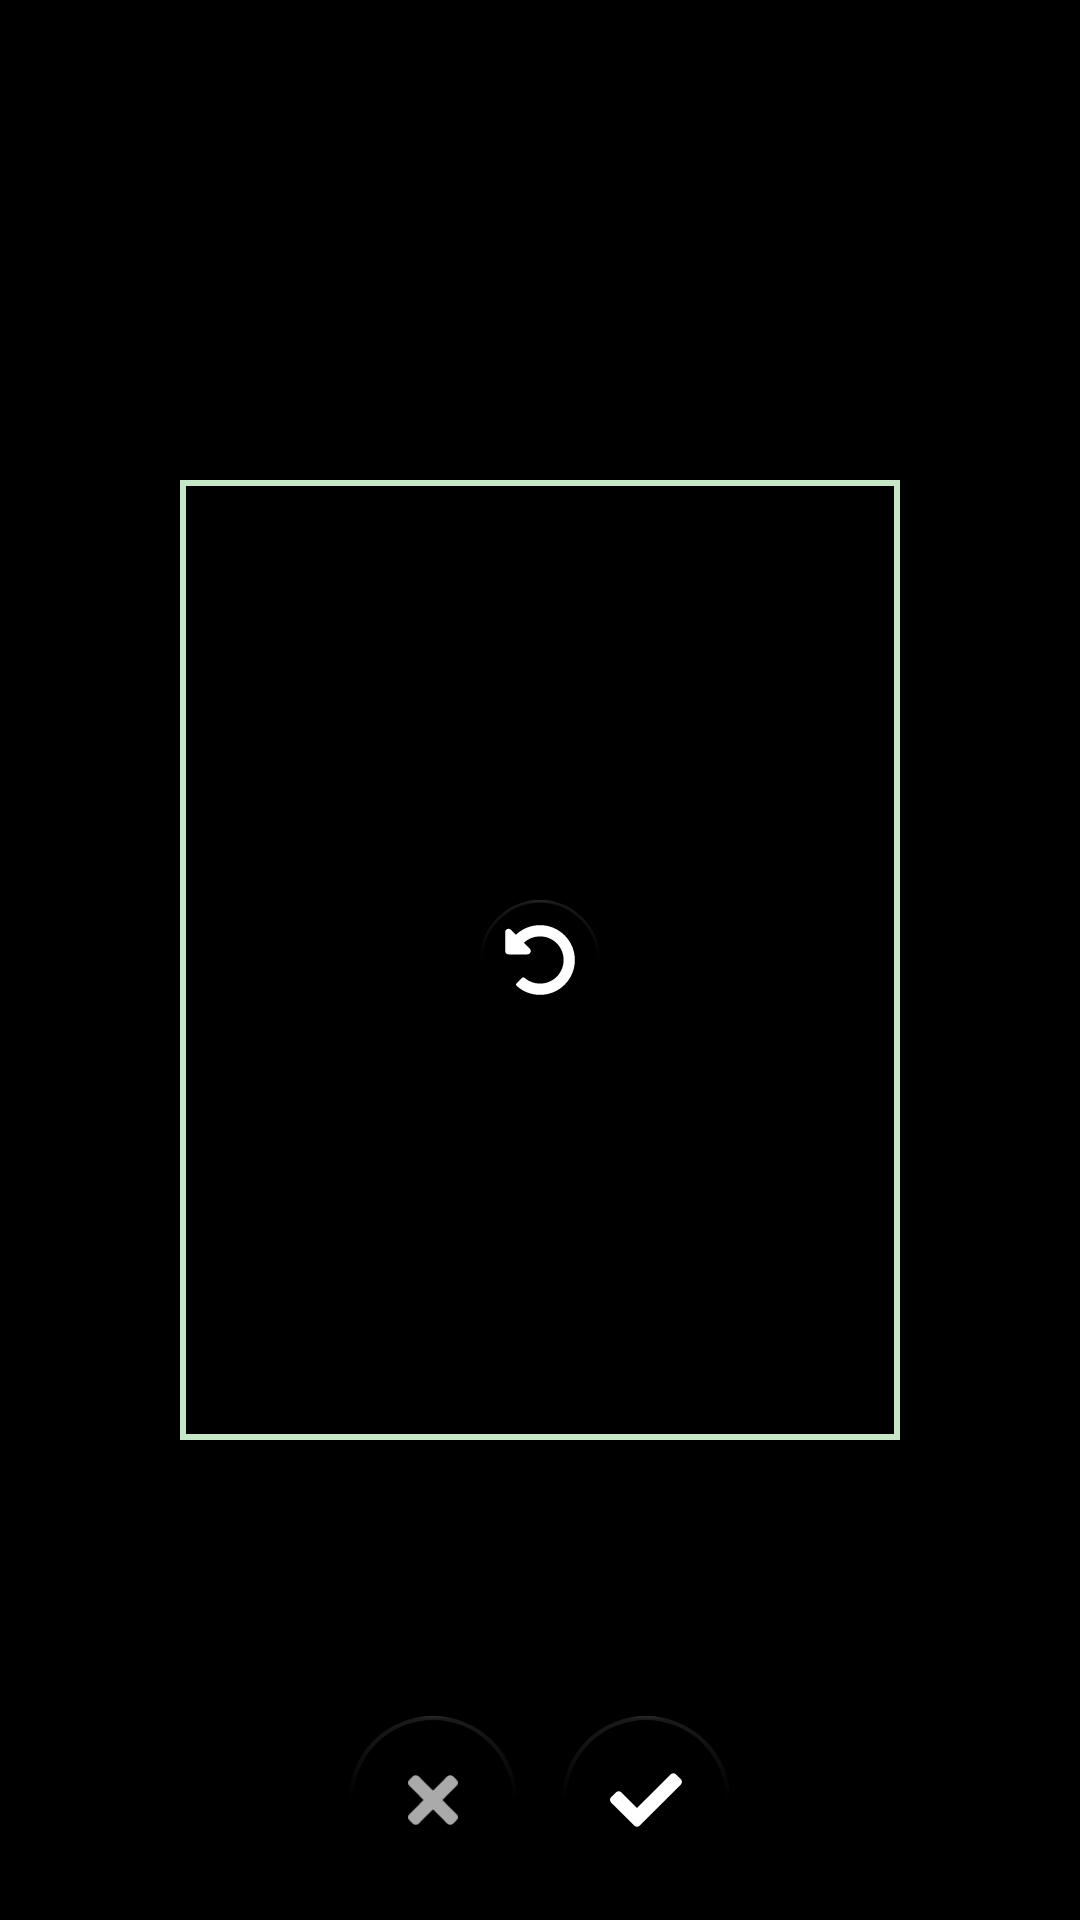

Screen size 1080 x 1920. Icon name, then its box in pixels as bbox=(x1, y1, x2, y2):
undo: bbox=(505, 900, 575, 995)
